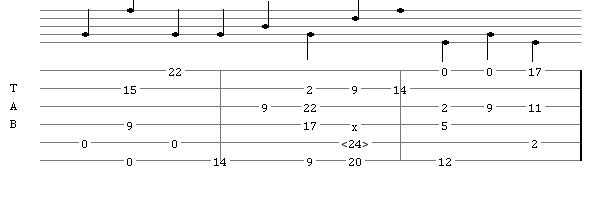0: (81, 136, 92, 148), (126, 154, 137, 166), (171, 136, 182, 148), (441, 64, 452, 76), (486, 64, 497, 76)
11: (528, 100, 546, 112)
12: (438, 154, 456, 166)
14: (213, 154, 231, 166), (393, 82, 411, 94)
15: (123, 82, 141, 94)
17: (303, 118, 321, 130), (528, 64, 546, 76)
2: (306, 82, 317, 94), (441, 100, 452, 112), (531, 136, 542, 148)
20: (348, 154, 366, 166)
22: (168, 64, 186, 76), (303, 100, 321, 112)
5: (441, 118, 452, 130)
9: (126, 118, 137, 130), (261, 100, 272, 112), (306, 154, 317, 166), (351, 82, 362, 94), (486, 100, 497, 112)
harmonic: (341, 136, 373, 148)
x: (352, 119, 362, 129)
